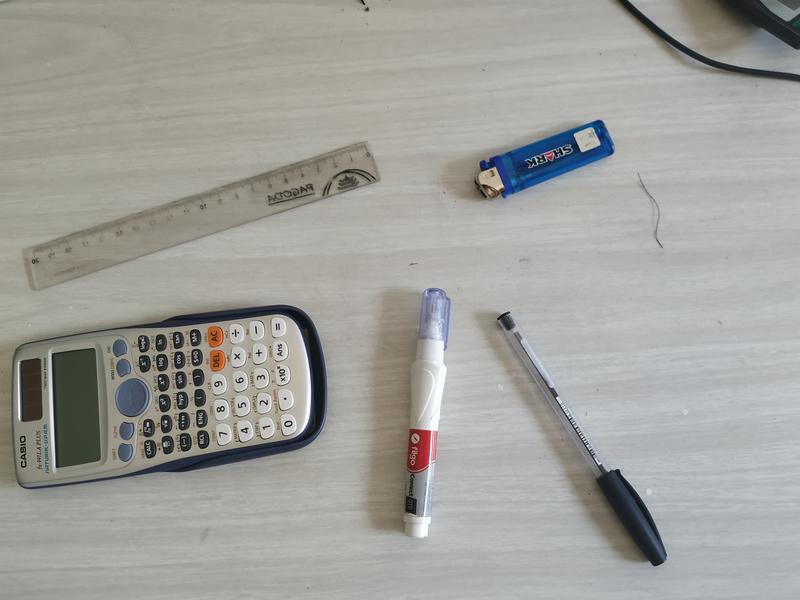calculadora: (10, 298, 335, 493)
corrector: (399, 277, 456, 545)
encendedor: (464, 110, 620, 202)
lapicera: (483, 305, 671, 572)
regla: (17, 130, 383, 295)
